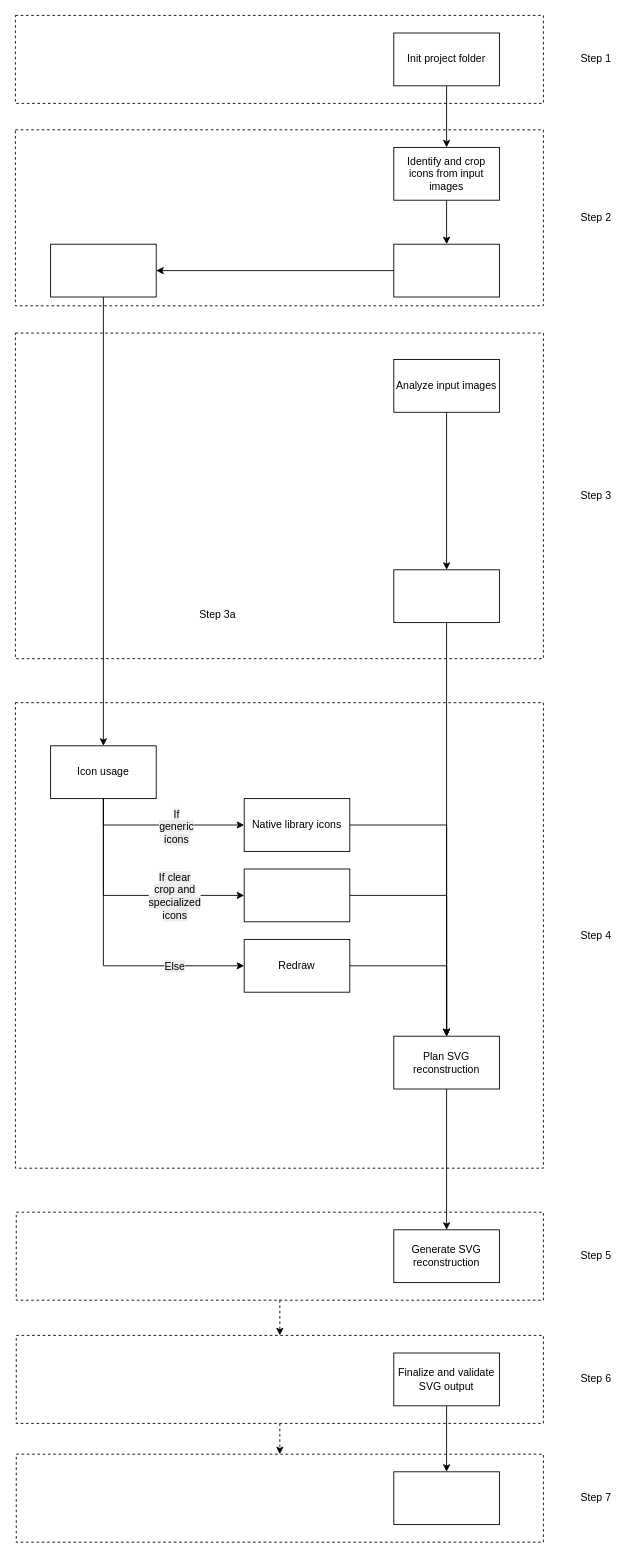
Image size: 638x1558. Some labels were removed from this diagram. The centre of each missing label's shape, as x and y in pixels:
"Agent reviews and selects usable icons" belongs at point 446,270.
"Image interpretation" belongs at point 446,596.
"pptx" belongs at point 446,1498.
"Reusable icon library" belongs at point 296,895.
"Reusable icons library" belongs at point 103,270.
